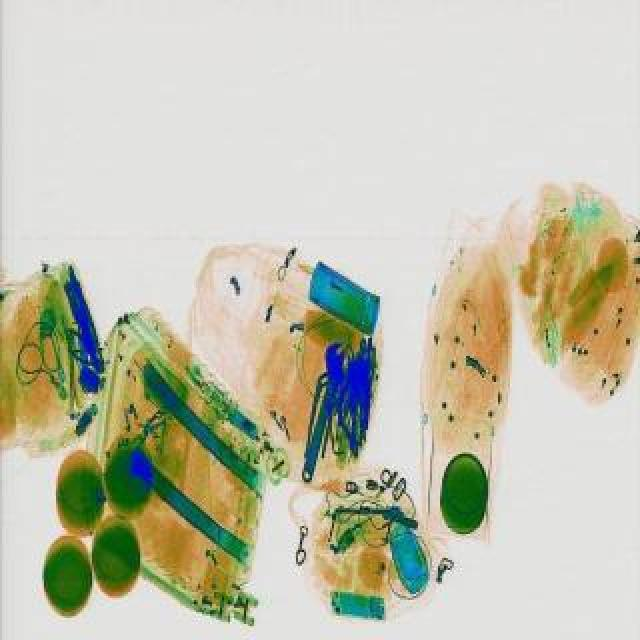scissors: (290, 340, 354, 484)
wrench: (56, 326, 112, 374)
